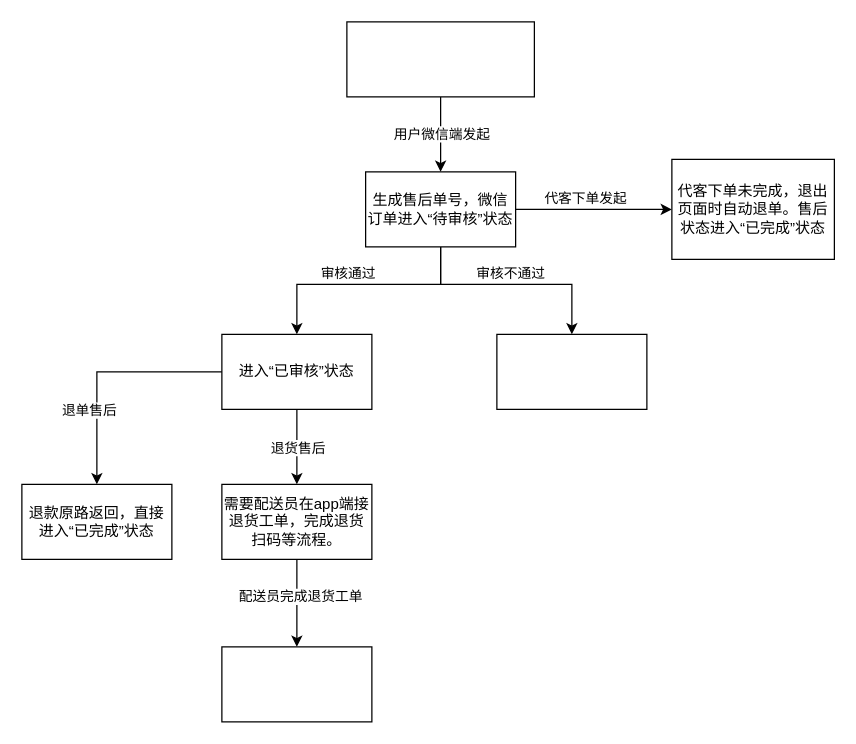
Image size: 856x744. Some labels were removed from this diagram. Here are the shapes that lost their labels. From the top down, the centre of each, then its label:
point (440, 59): 退单（订单未完成） 退货（订单已完成）
point (571, 371): 进入“已关闭”状态
point (296, 684): 退款原路返回，现金单需线下结算。
